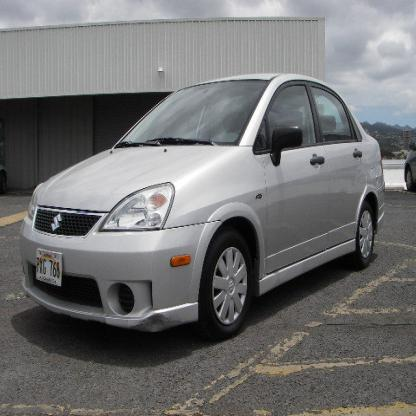car: (17, 70, 387, 339)
